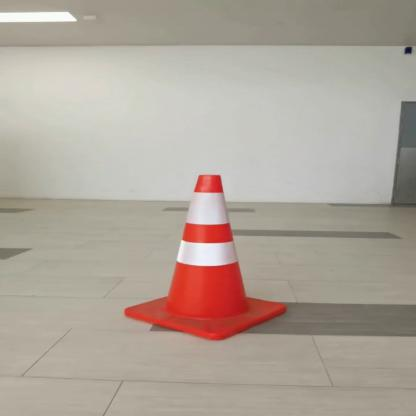cone: (103, 171, 306, 341)
